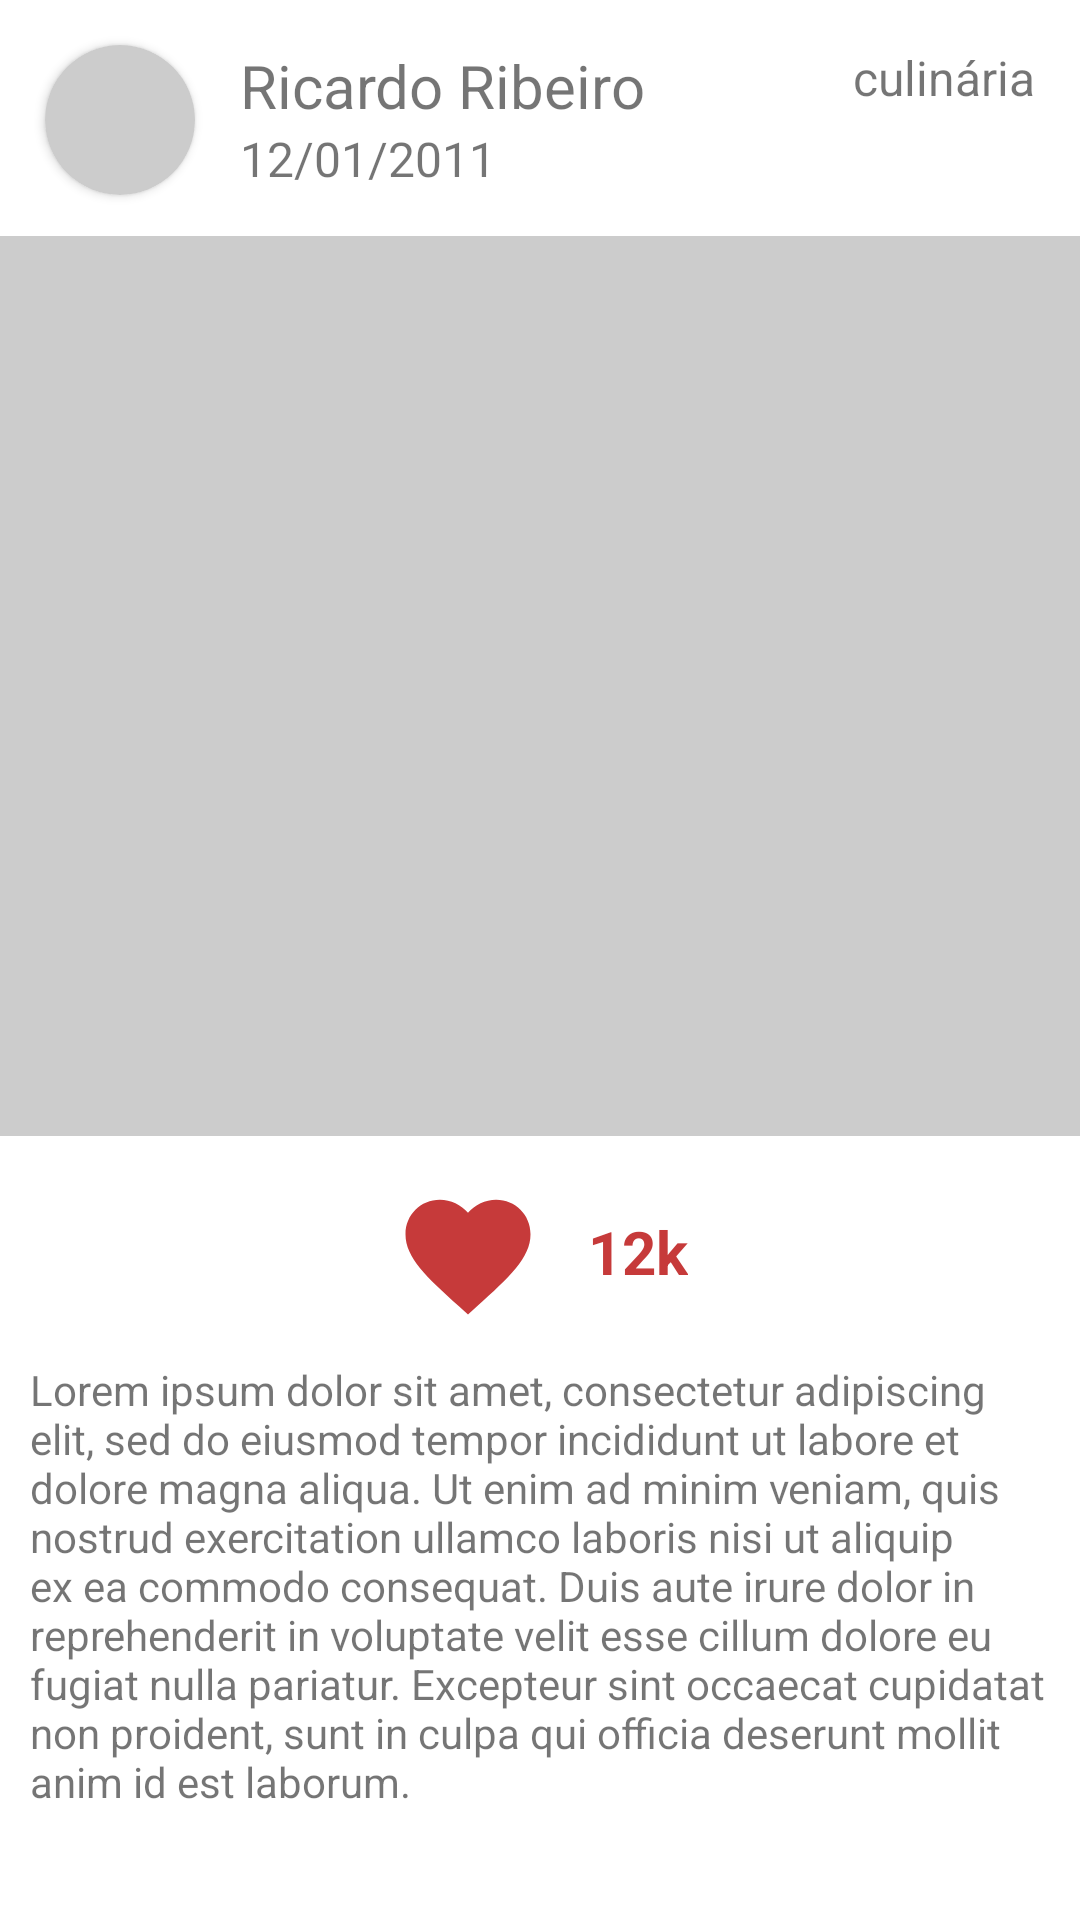

Point at icon controls on the screen. Image size 1080 x 1920, points as (x,y).
love: (468,1257)
